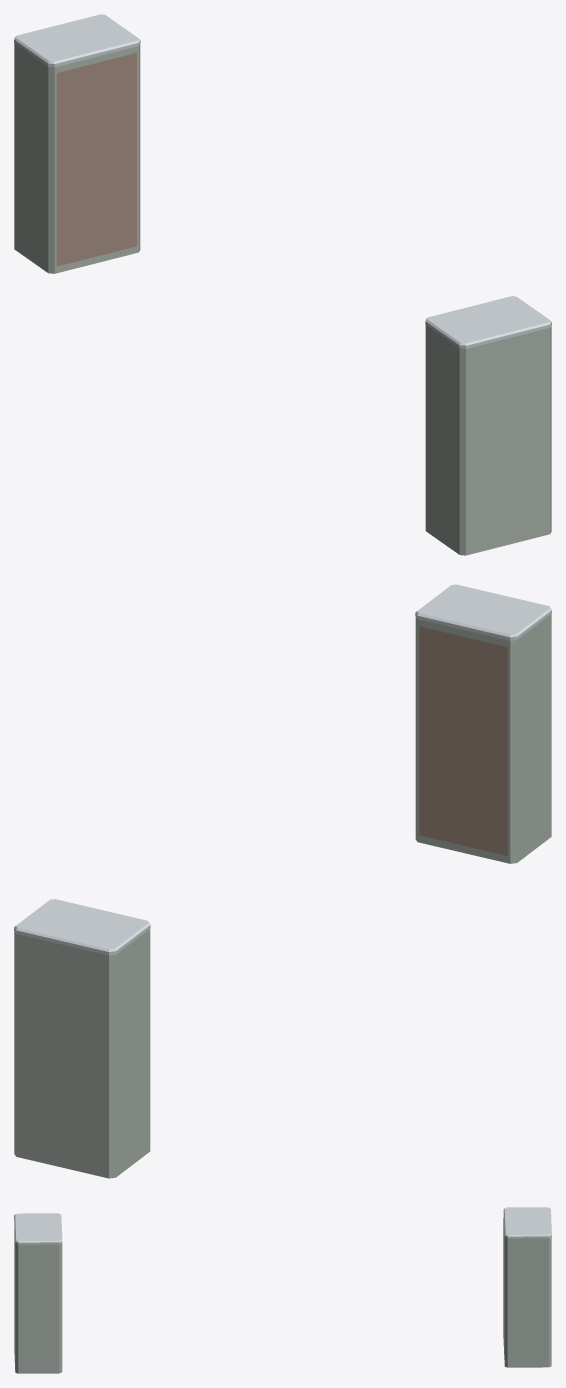
Rendered from detail.glb.
3 renders of one model, top to bottom at view 1: azimuth 30°, elevation 25°; view 2: azimuth 150°, elevation 25°; view 3: azimuth 270°, elevation 25°, orthographic. The views are drawn at different scales.
Visible parts, largest first — view 1: crown-fountain; view 2: crown-fountain; view 3: crown-fountain.
Boxes of the visible parts, bbox=[...] form: crown-fountain: bbox=[14, 14, 551, 555]; crown-fountain: bbox=[14, 584, 551, 1178]; crown-fountain: bbox=[14, 1207, 551, 1373].
Bounding box in the file's own units: 8.6 × 15.2 × 56.03.
